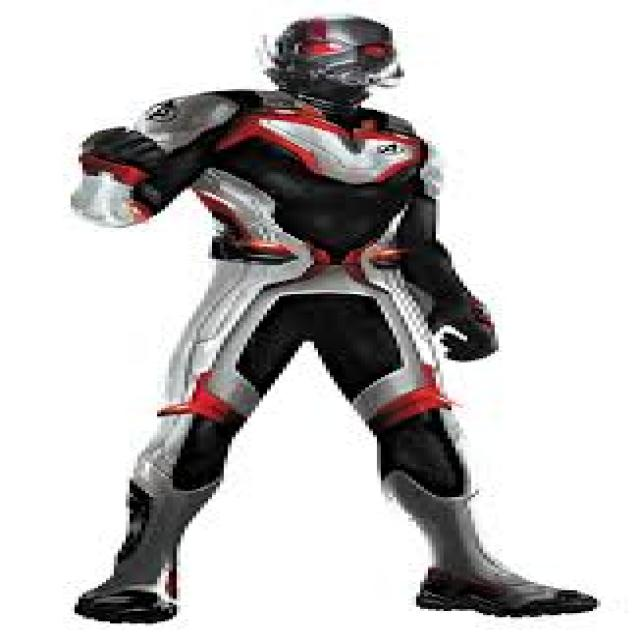Object-Detection: (0, 0, 636, 636)
